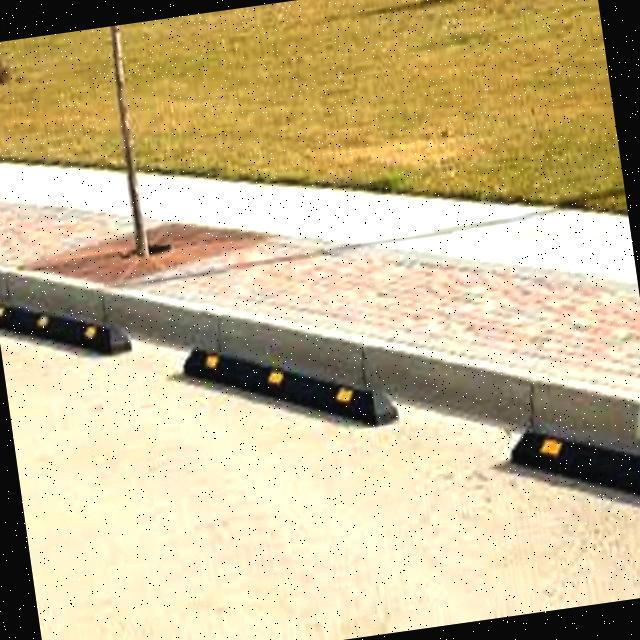curb: (149, 264, 398, 465), (500, 343, 640, 528), (1, 244, 148, 377), (396, 331, 526, 461)
